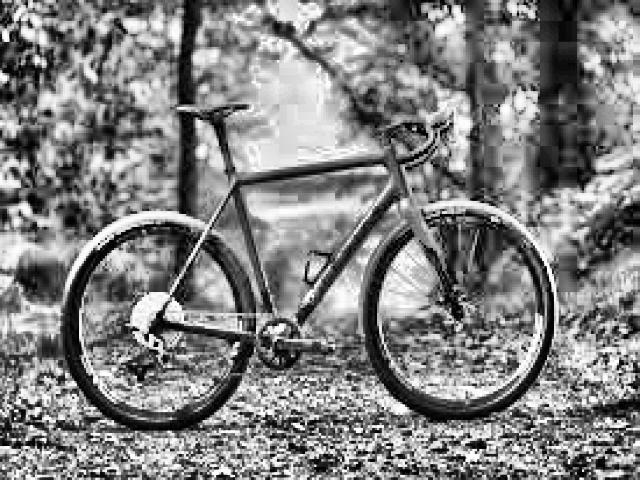cassette: (130, 291, 186, 348)
cranks_set: (250, 314, 335, 375)
pedal: (316, 338, 336, 353)
rear_derailleur: (127, 333, 169, 381)
saddle: (176, 98, 251, 123)
sti_shifter: (442, 94, 460, 148)
wheel: (57, 210, 259, 435), (358, 204, 560, 422)
